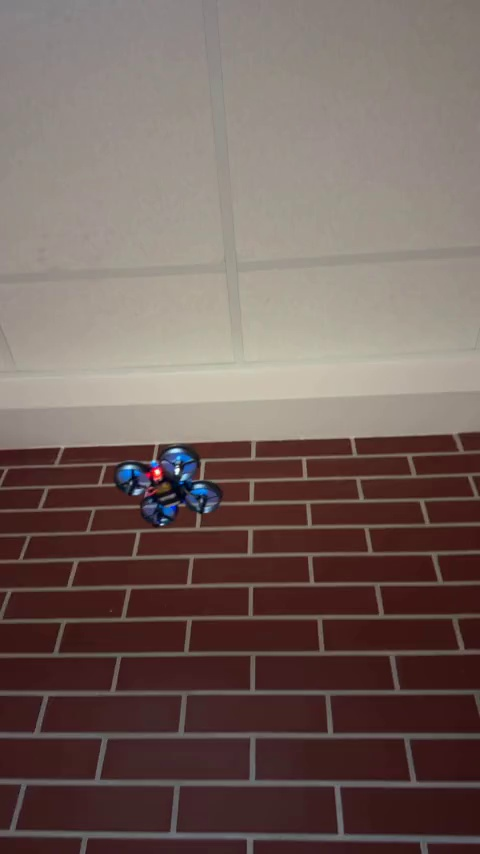drone: (114, 442, 222, 529)
